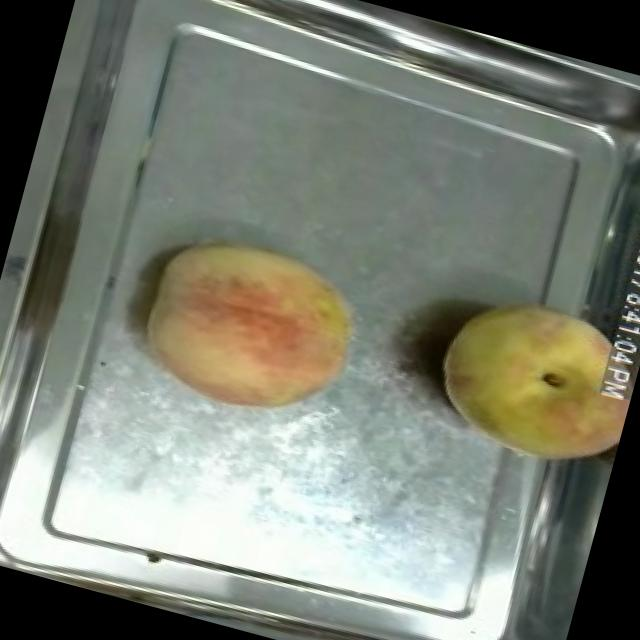Fruit: (122, 209, 380, 442), (415, 270, 640, 487)
